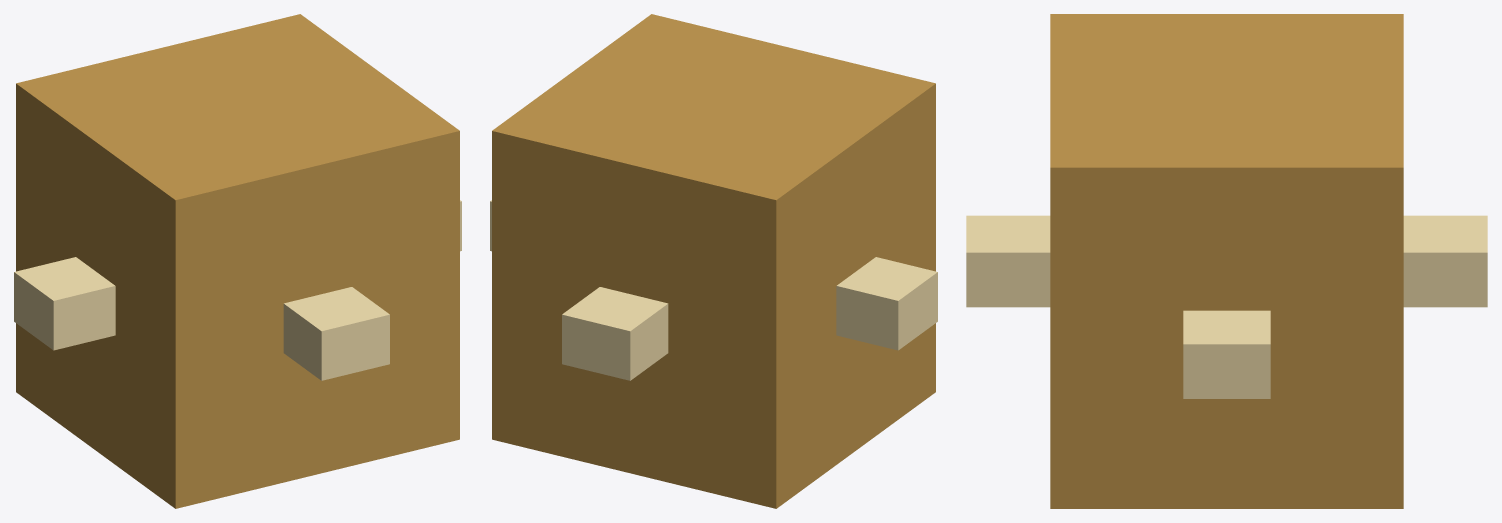
Rendered from flyer-shape-grid-block-v1.glb.
The picture shows the model from 3 angles, left to right: view 1: azimuth 30°, elevation 25°; view 2: azimuth 150°, elevation 25°; view 3: azimuth 270°, elevation 25°; orthographic projection. The views are drawn at different scales.
Visible parts, largest first — view 1: Grid Block; view 2: Grid Block; view 3: Grid Block.
Boxes of the visible parts, <box> form: Grid Block: <box>14,14,461,508</box>; Grid Block: <box>490,14,937,508</box>; Grid Block: <box>966,14,1487,508</box>.
Bounding box in the file's own units: 1.8 × 1.3 × 1.8.
